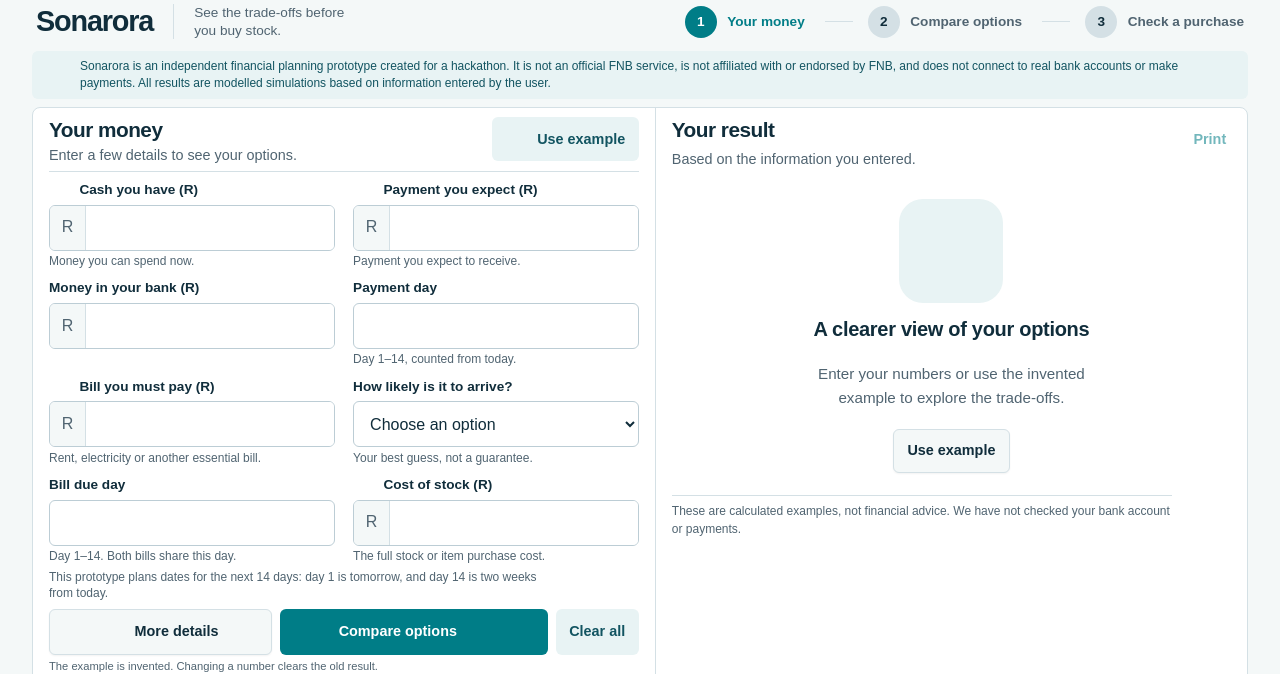
it: redesigned decision flow › starts validation with one actionable detail and keeps the other errors collapsed
Click the button "Compare options" at (414, 632), box x1=280 y1=609 x2=548 y2=655
(page scrolled)
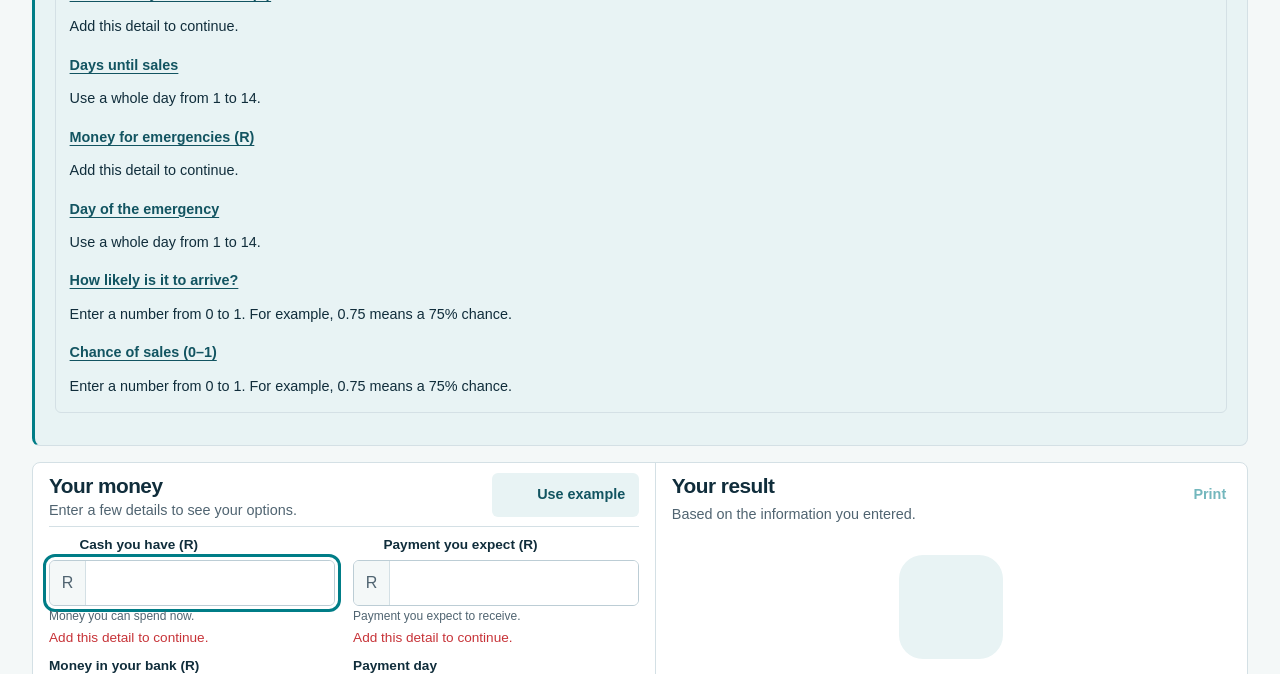
Click the link "Chance of sales (0–1)" at (143, 352), box x1=70 y1=344 x2=217 y2=360
(page scrolled)
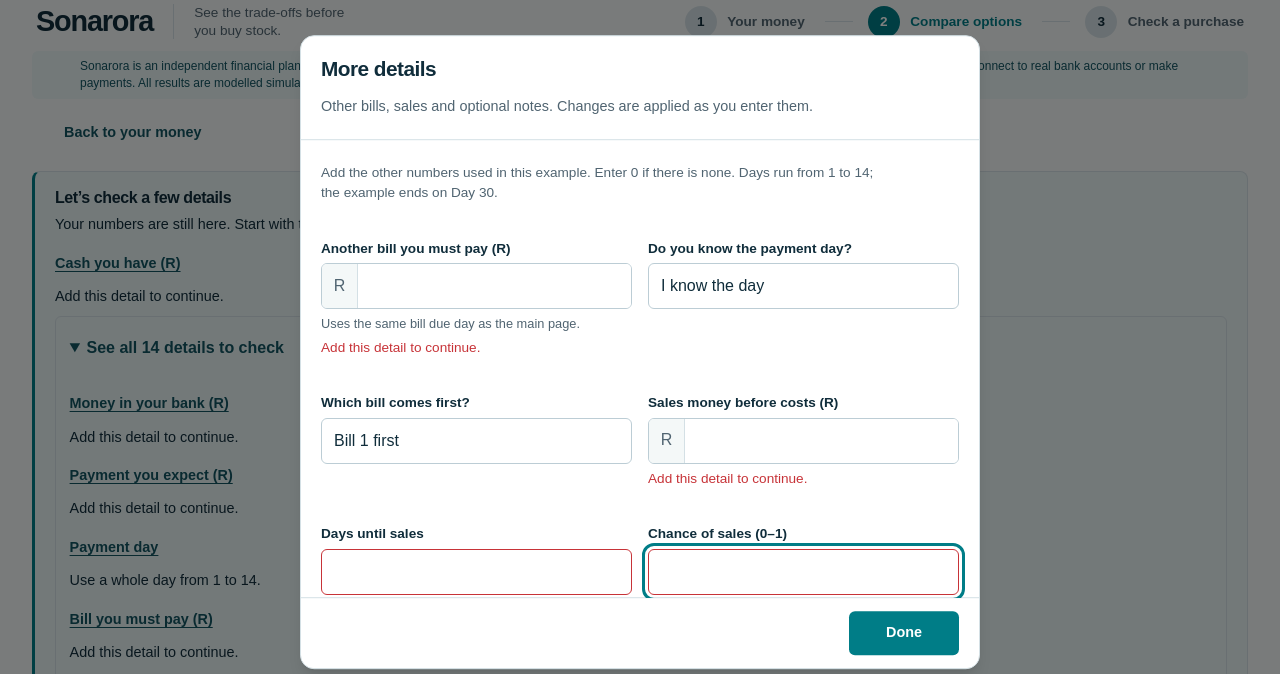
Result: the dialog is shown at x1=300 y1=35 x2=980 y2=669
